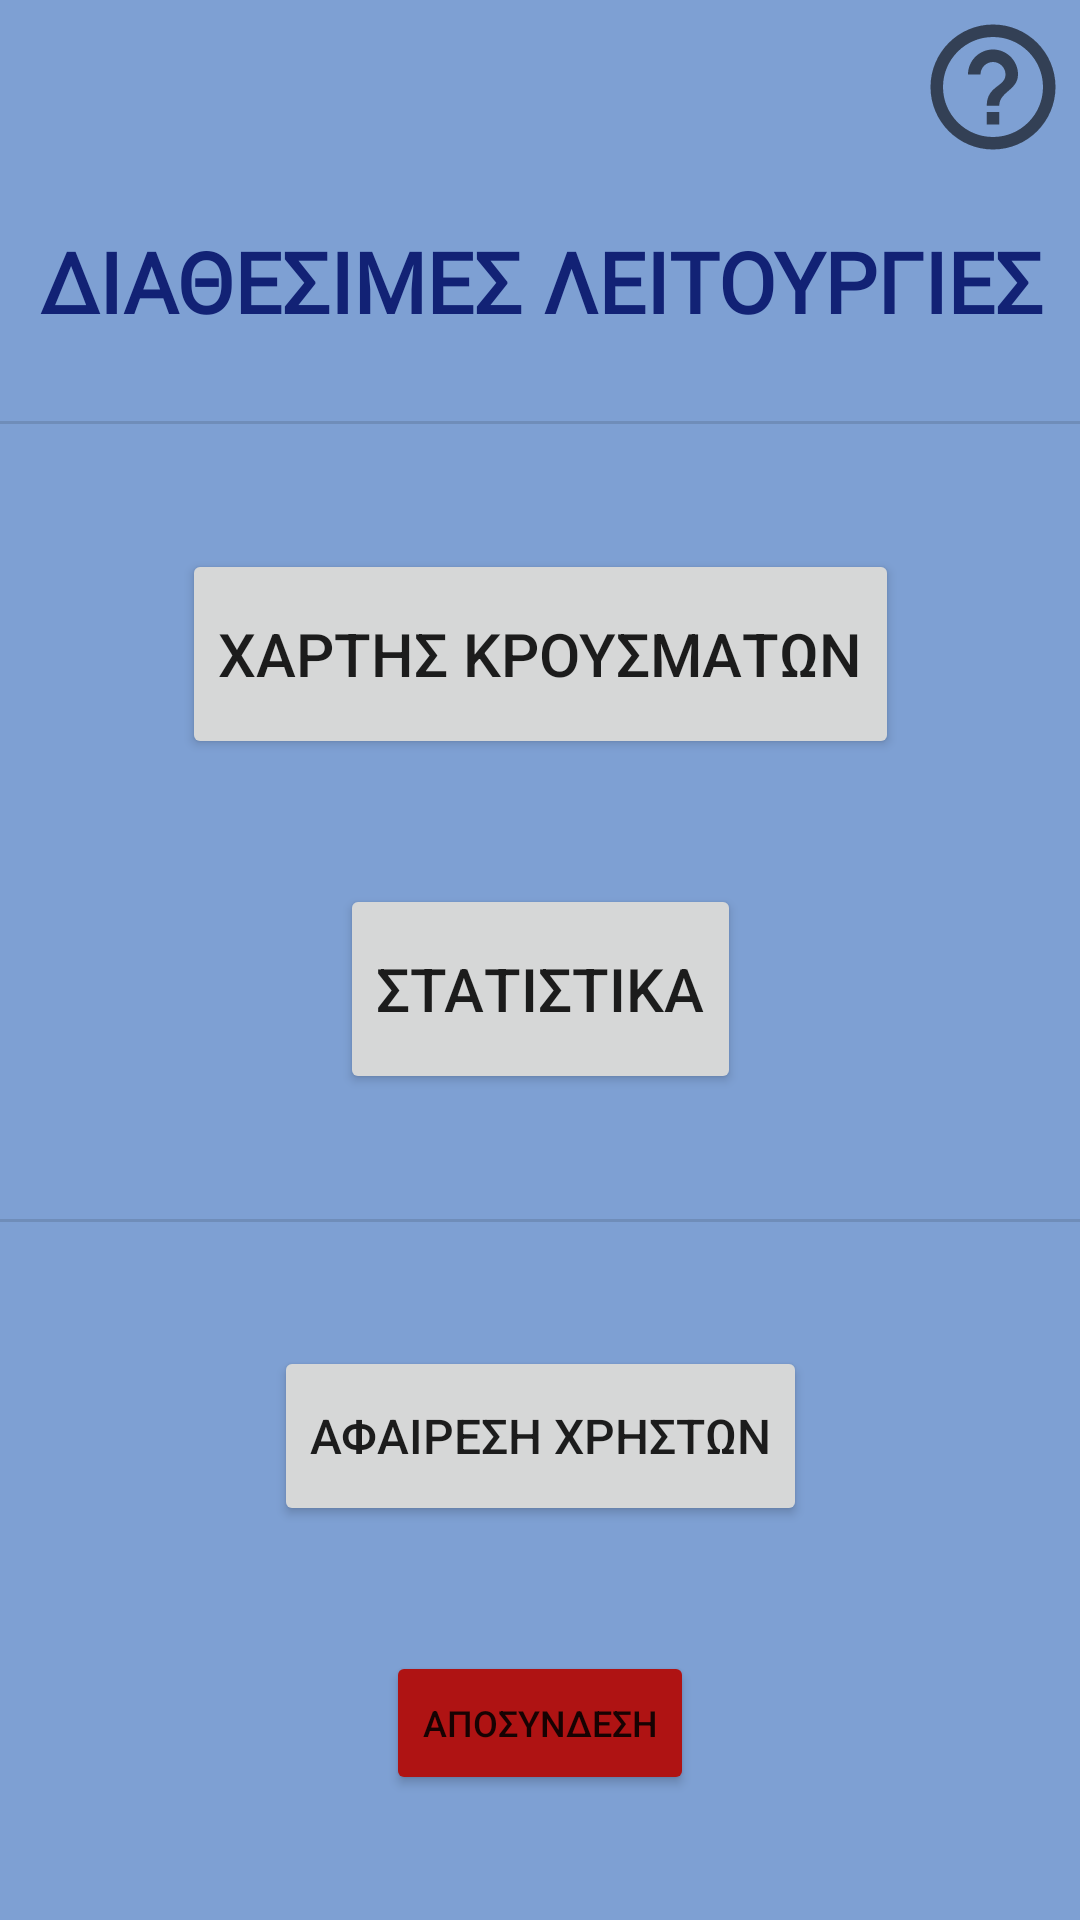

Screen size 1080 × 1920. Icon name, then its center in pixels as (x,y):
help: (993,87)
